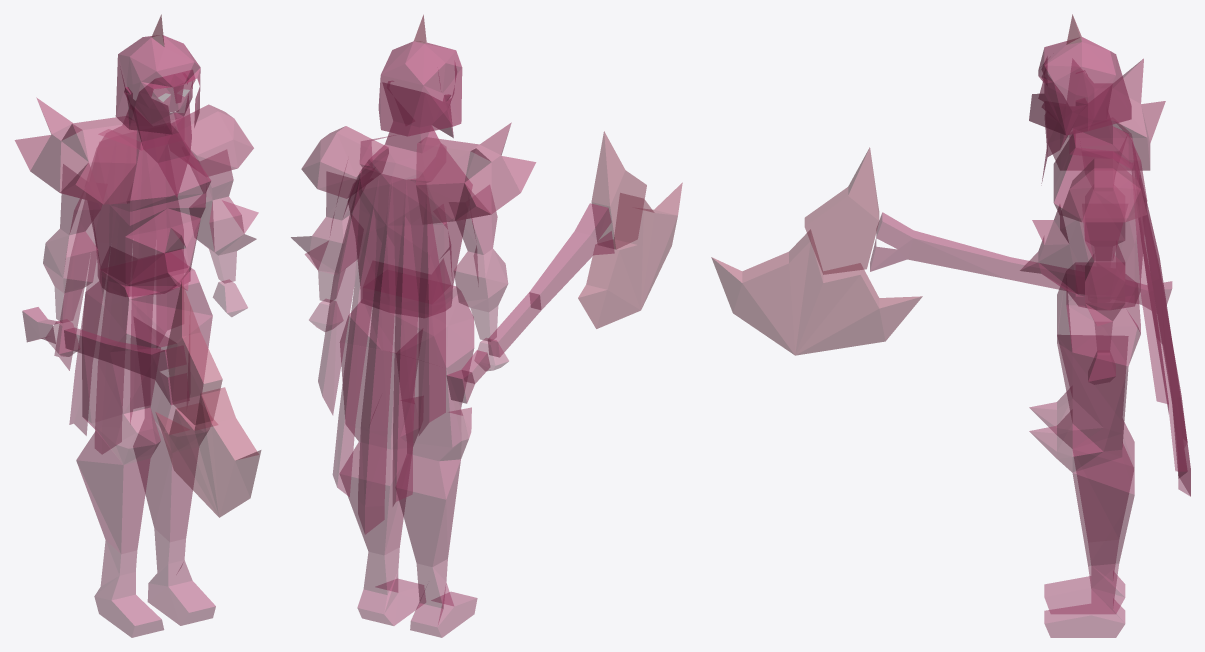
File: barrow_wight.glb
3 renders of one model, left to right at view 1: azimuth 30°, elevation 25°; view 2: azimuth 150°, elevation 25°; view 3: azimuth 270°, elevation 25°, orthographic.
Bounding box in the file's own units: 80 × 214 × 154.
1 material, 1 textured.
